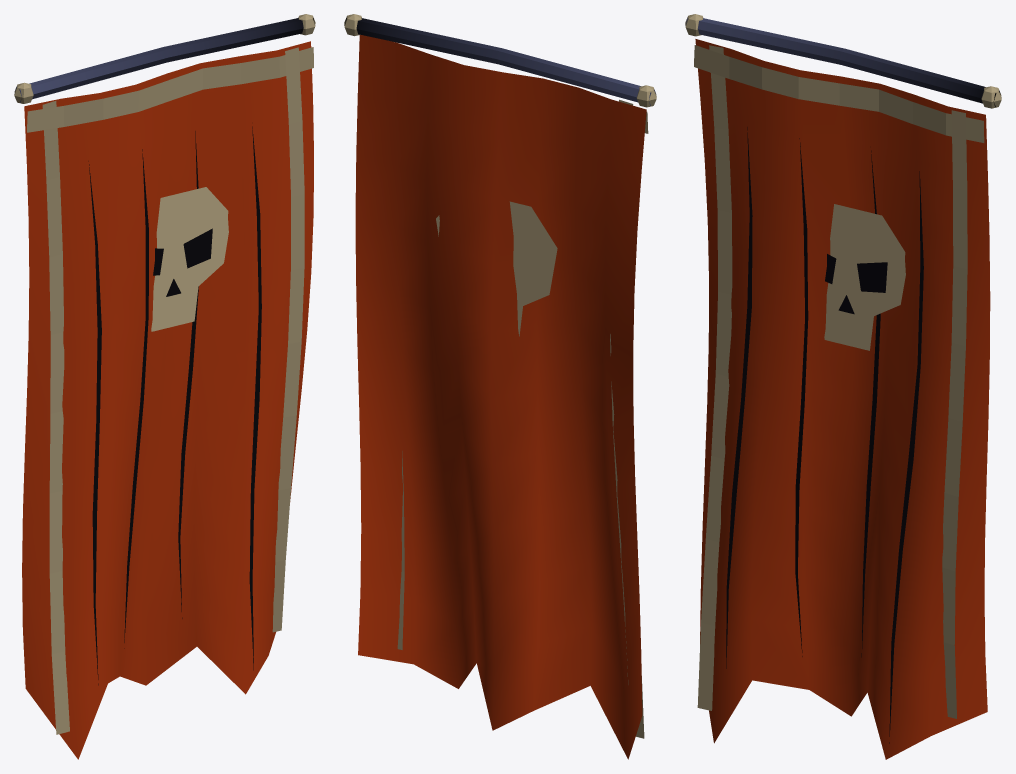
File: banner_red.glb
3 views of the same model, side by side, from view 1: azimuth 30°, elevation 25°; view 2: azimuth 150°, elevation 25°; view 3: azimuth 330°, elevation 25° (orthographic). The views are drawn at different scales.
Parts seen in each view (by area): view 1: banner_red.001; view 2: banner_red.001; view 3: banner_red.001.
Boxes of the visible parts, <box> form: banner_red.001: <box>14,14,315,759</box>; banner_red.001: <box>344,14,656,759</box>; banner_red.001: <box>685,14,1001,759</box>.
Size of the model in its own units: 1.5 by 3.2 by 0.31.
